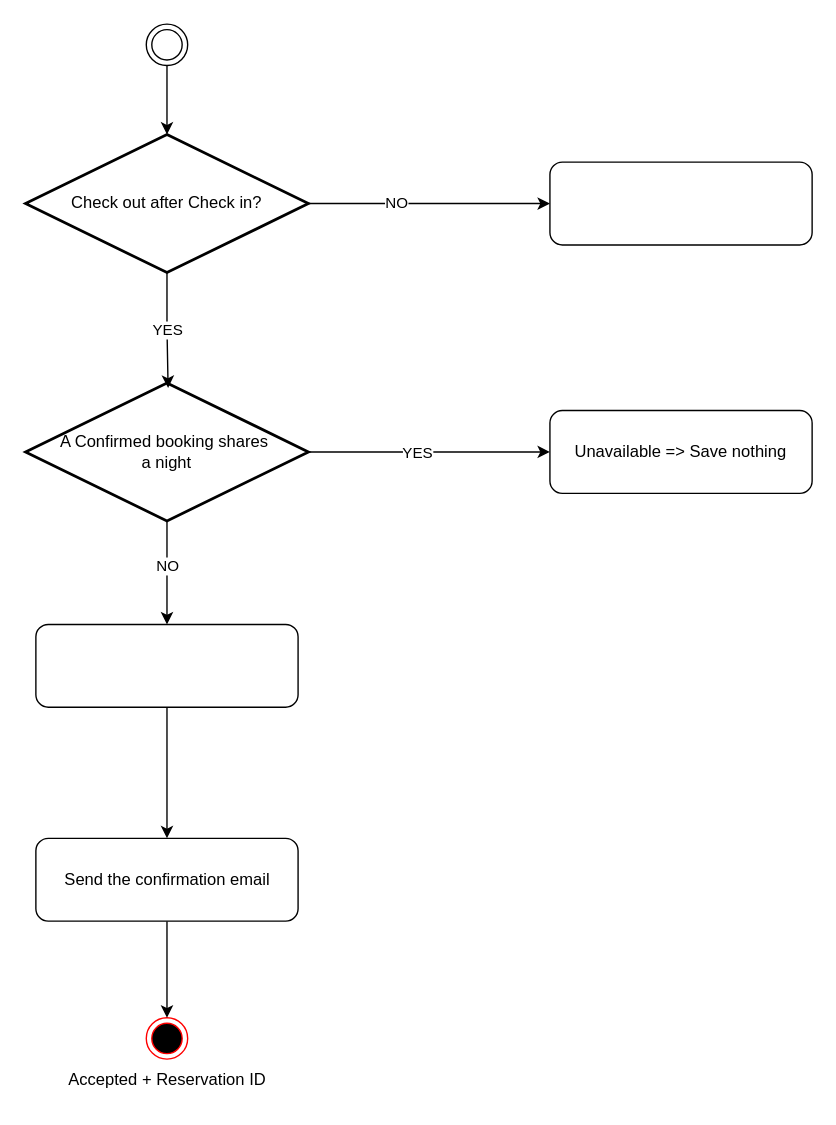
Some shapes in this 836 by 1125 pixel diagram are drawn without their labels. Here are the shapes that lost their labels. From the top down, the centre of each, then its label:
At point 680,203: "InvalidDates => Save nothing".
At point 166,665: "Save reservation as Confirmed".
